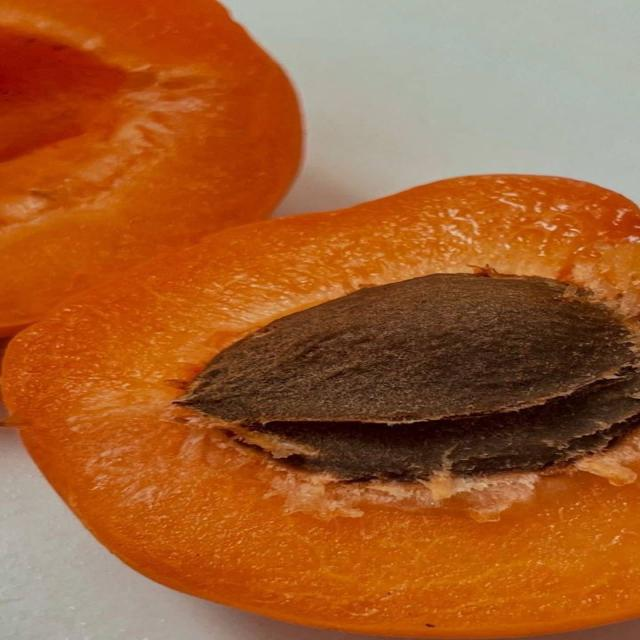kayisi: (6, 176, 640, 637)
kayisicekirdegi: (181, 275, 640, 479)
